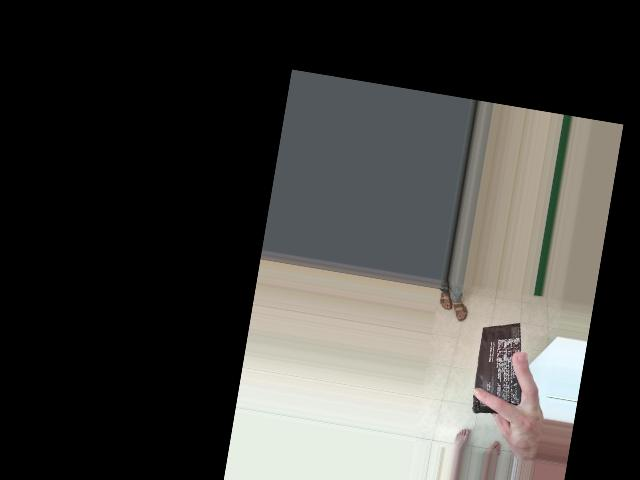chocolate: (466, 311, 542, 429)
